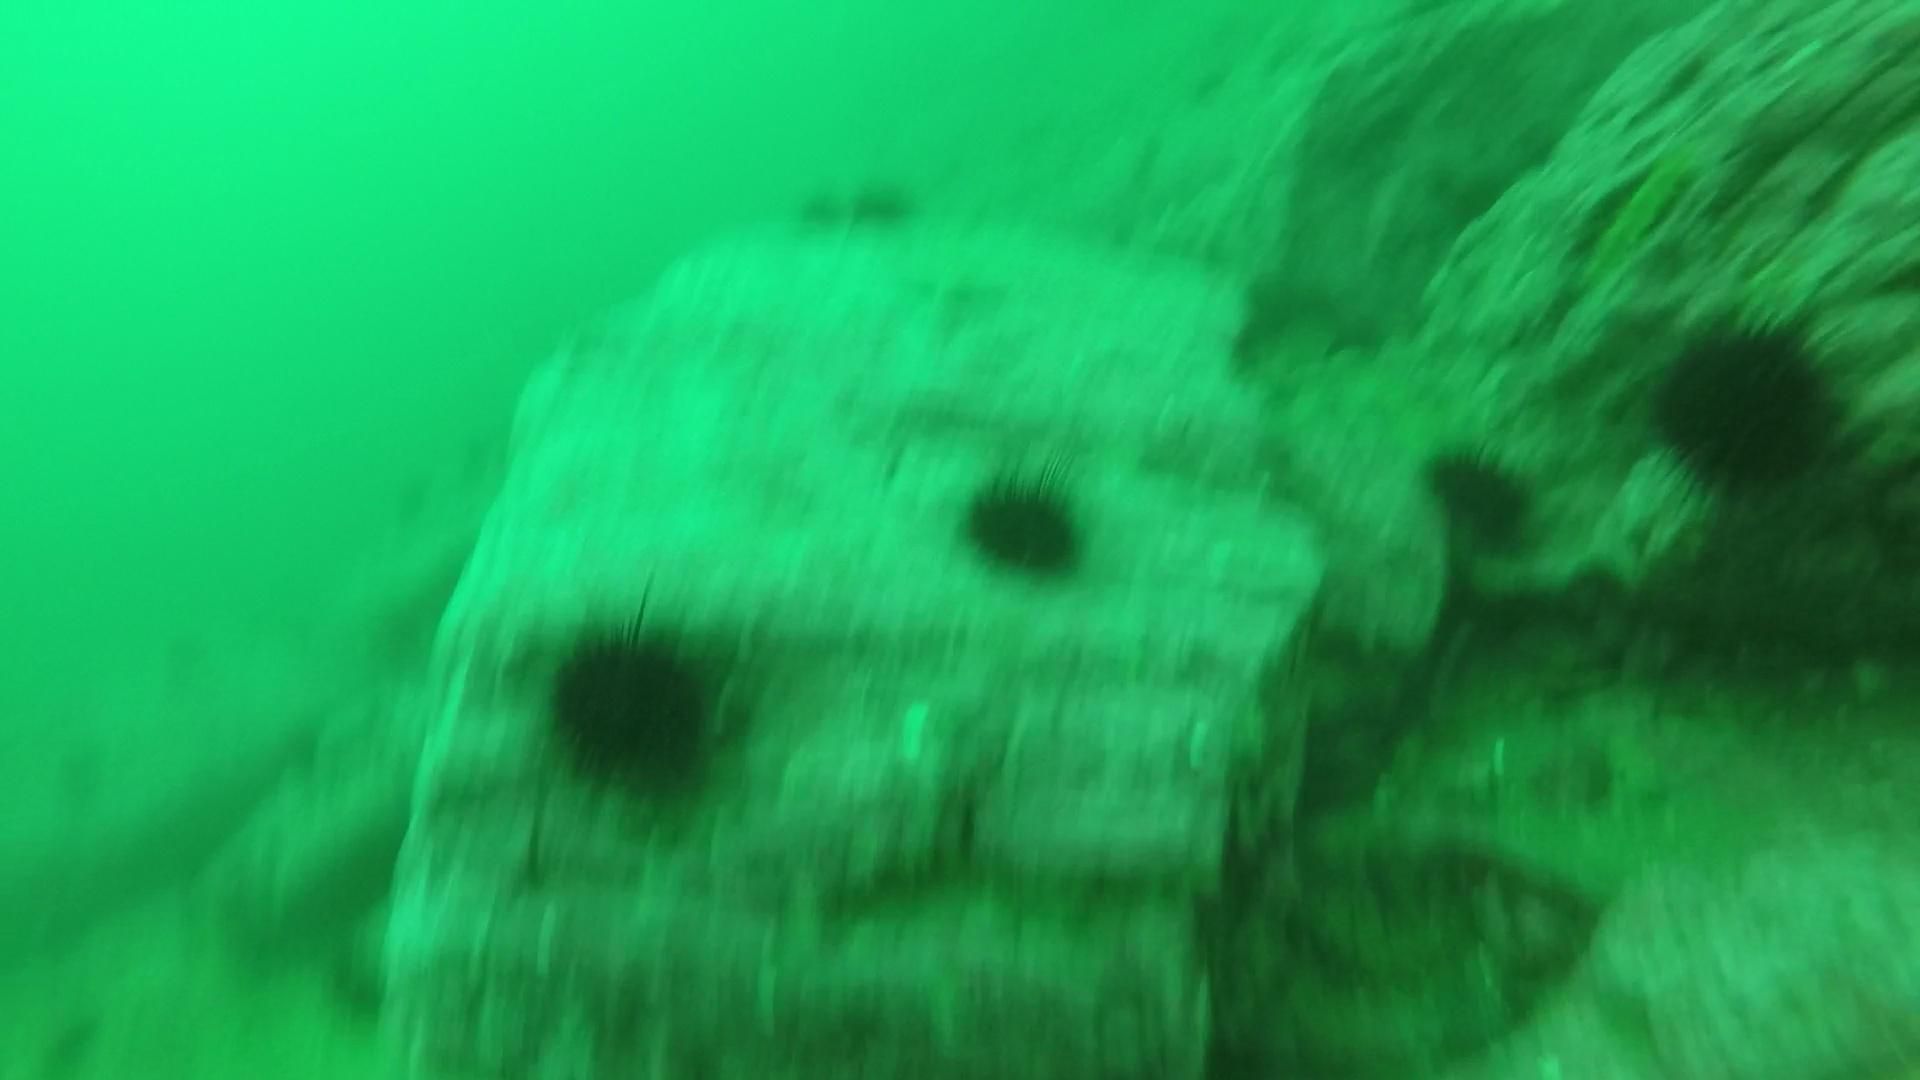urchin: (1633, 301, 1878, 509), (553, 615, 735, 803), (1428, 433, 1553, 555), (968, 471, 1095, 563)
